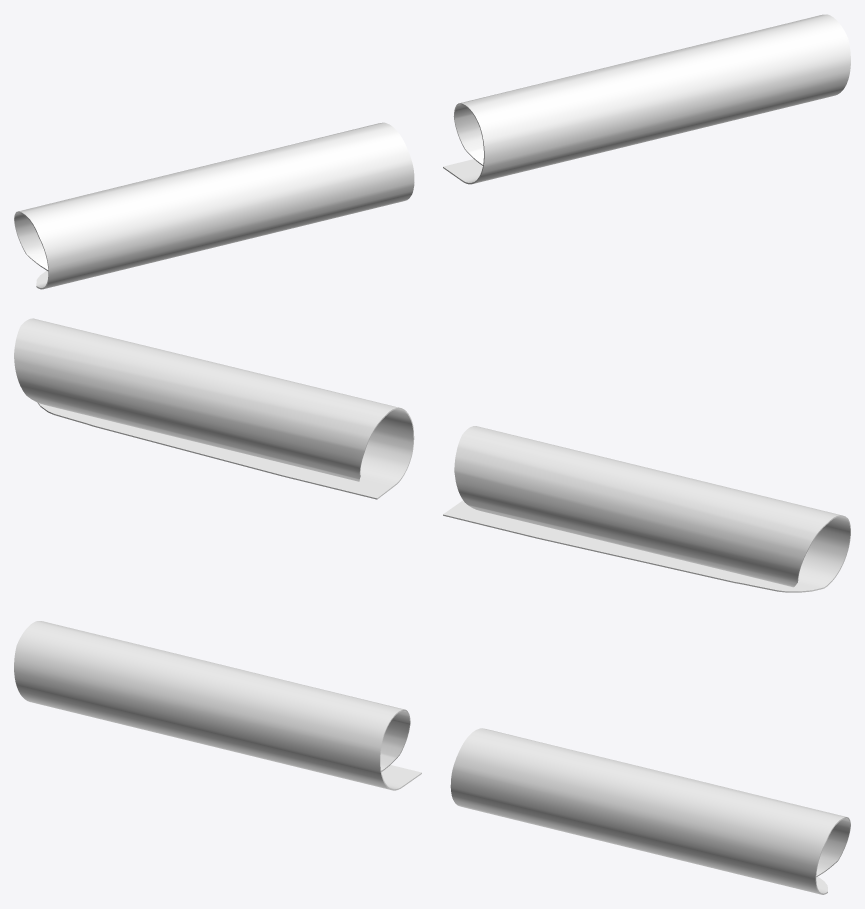
File: Level 133 unroll sunglass.fbx
The picture shows the model from 3 angles, top to bottom: view 1: azimuth 30°, elevation 25°; view 2: azimuth 150°, elevation 25°; view 3: azimuth 330°, elevation 25°; orthographic projection.
Visible parts, largest first — view 1: Blend1, Blend; view 2: Blend1, Blend; view 3: Blend, Blend1.
Part boxes in pixels (x1,y1,x2,y2): Blend1: (443,14,850,184); Blend: (14,122,414,289); Blend1: (14,318,414,499); Blend: (443,426,850,592); Blend: (14,621,421,790); Blend1: (450,728,850,894).
Size of what is drawn, in the model's own units: 666 by 58.3 by 58.9.
